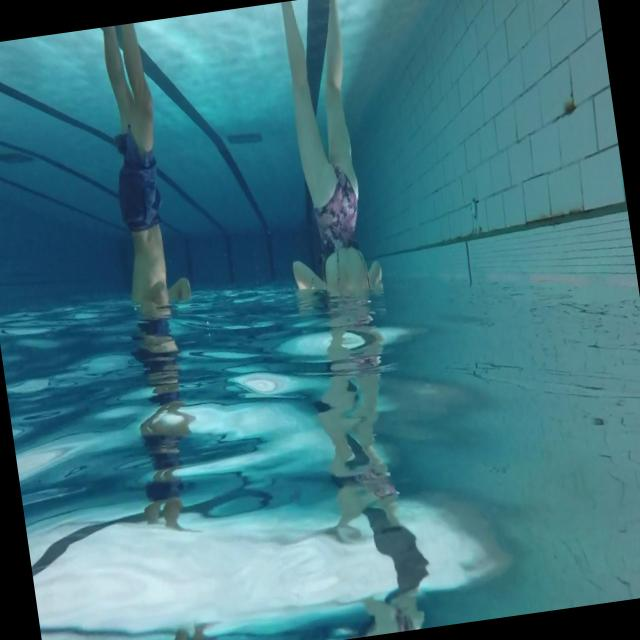human: (86, 20, 208, 409), (256, 0, 391, 335)
